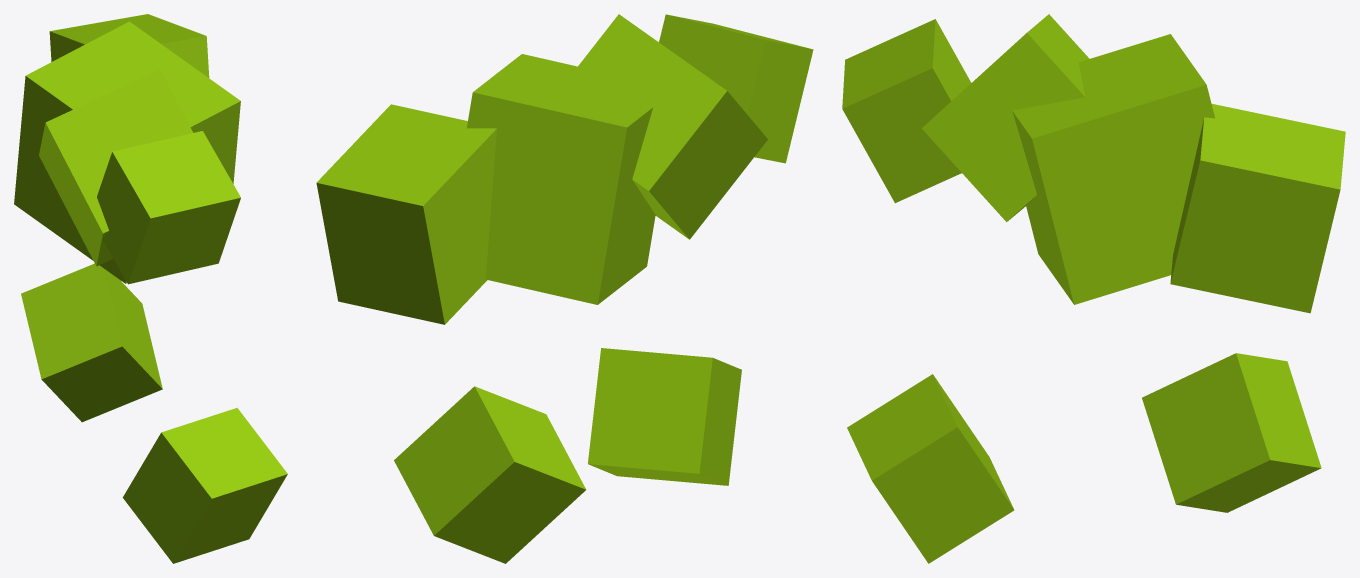
The model's file is tree_big_4_boxy.fbx.
3 renders of one model, left to right at view 1: azimuth 30°, elevation 25°; view 2: azimuth 150°, elevation 25°; view 3: azimuth 270°, elevation 25°, orthographic. The views are drawn at different scales.
Parts seen in each view (by area): view 1: tree_big_4_boxy; view 2: tree_big_4_boxy; view 3: tree_big_4_boxy.
Boxes of the visible parts, x1=… form: tree_big_4_boxy: x1=14, y1=14, x2=287, y2=563; tree_big_4_boxy: x1=316, y1=14, x2=813, y2=563; tree_big_4_boxy: x1=842, y1=14, x2=1345, y2=563.
Bounding box in the file's own units: 149 × 276 × 249.
